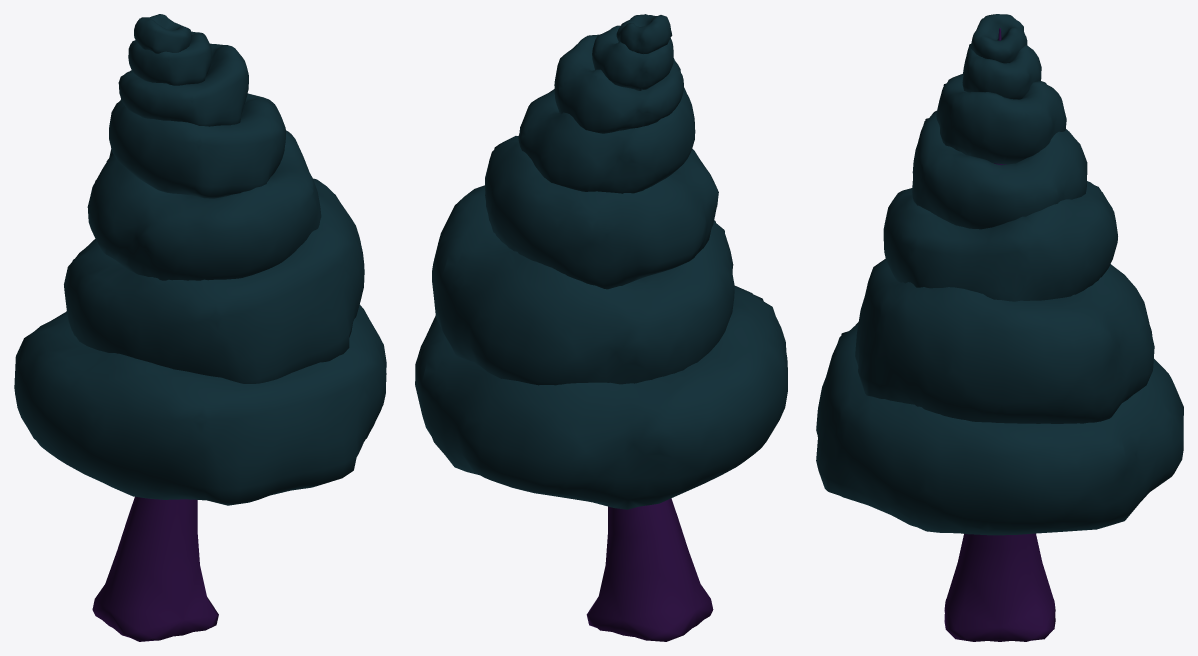
The model's file is Çikolata Ağaç.fbx.
3 renders of one model, left to right at view 1: azimuth 30°, elevation 25°; view 2: azimuth 150°, elevation 25°; view 3: azimuth 270°, elevation 25°, orthographic.
Visible parts, largest first — view 1: agac_yapraklar, agac_govde; view 2: agac_yapraklar, agac_govde; view 3: agac_yapraklar, agac_govde.
Boxes of the visible parts, <box> form: agac_yapraklar: <box>14,14,386,505</box>; agac_govde: <box>92,496,218,641</box>; agac_yapraklar: <box>415,14,787,509</box>; agac_govde: <box>586,498,713,641</box>; agac_yapraklar: <box>816,14,1183,535</box>; agac_govde: <box>944,28,1055,641</box>.
Size of the model in its own units: 206 by 362 by 200.
